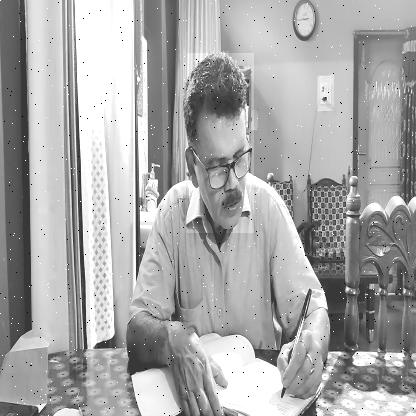Normal: (187, 53, 254, 233)
